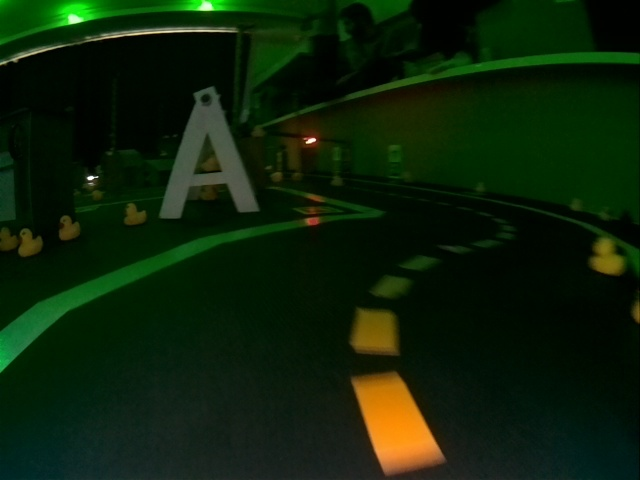Duckie: (590, 238, 622, 276), (57, 216, 79, 239), (20, 230, 39, 256), (125, 204, 146, 224), (3, 226, 15, 253), (202, 156, 219, 171), (200, 185, 218, 199)
